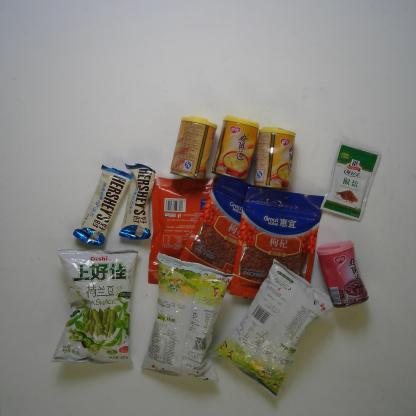Canned Food: (168, 114, 220, 182), (252, 125, 302, 195), (318, 237, 366, 308), (214, 115, 258, 180)
Chocolate: (73, 163, 129, 255), (115, 164, 157, 244)
Dried Fruit: (232, 185, 325, 297), (143, 173, 232, 286), (183, 174, 275, 281)
Puffed Food: (220, 256, 345, 398), (148, 252, 232, 387), (54, 243, 140, 372)
Seasoner: (316, 138, 385, 228)
